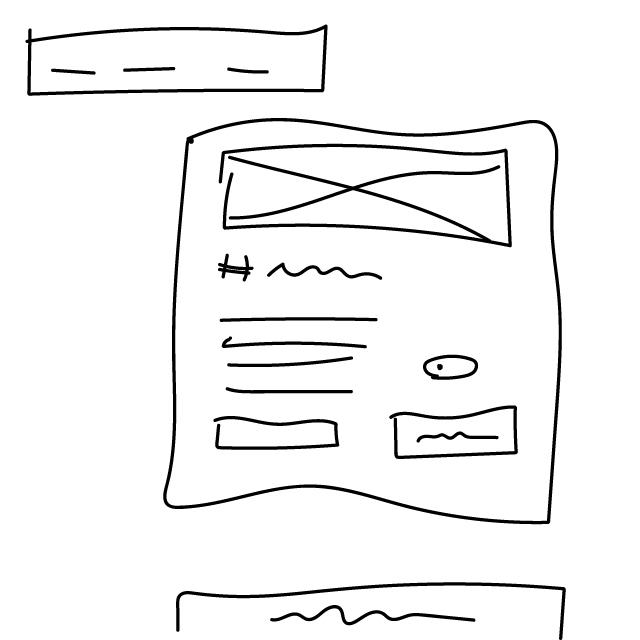buttonrotation: (391, 402, 531, 463)
checkboxrotation: (423, 351, 482, 383)
containerrotation: (159, 113, 576, 532)
footerrotation: (170, 574, 577, 640)
framerotation: (219, 142, 521, 251)
headingrotation: (216, 252, 388, 290)
inputrotation: (213, 415, 344, 455)
navrotation: (21, 21, 335, 98)
textrotation: (218, 310, 381, 401)
